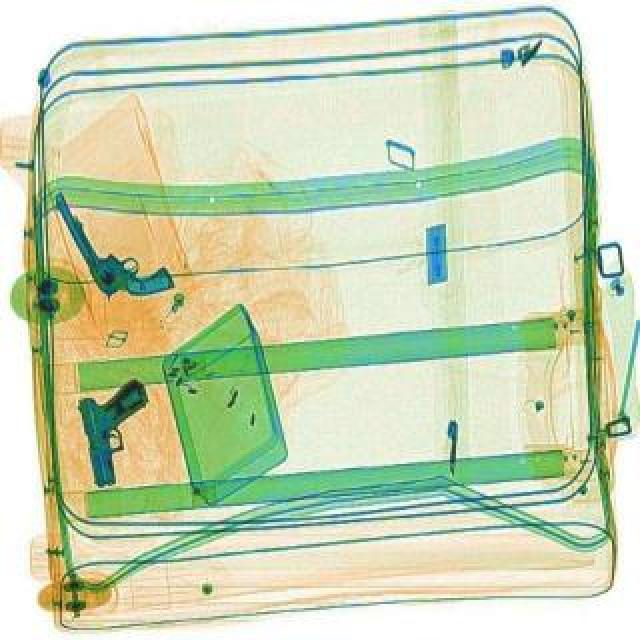gun: (50, 166, 174, 310), (66, 374, 172, 488)
